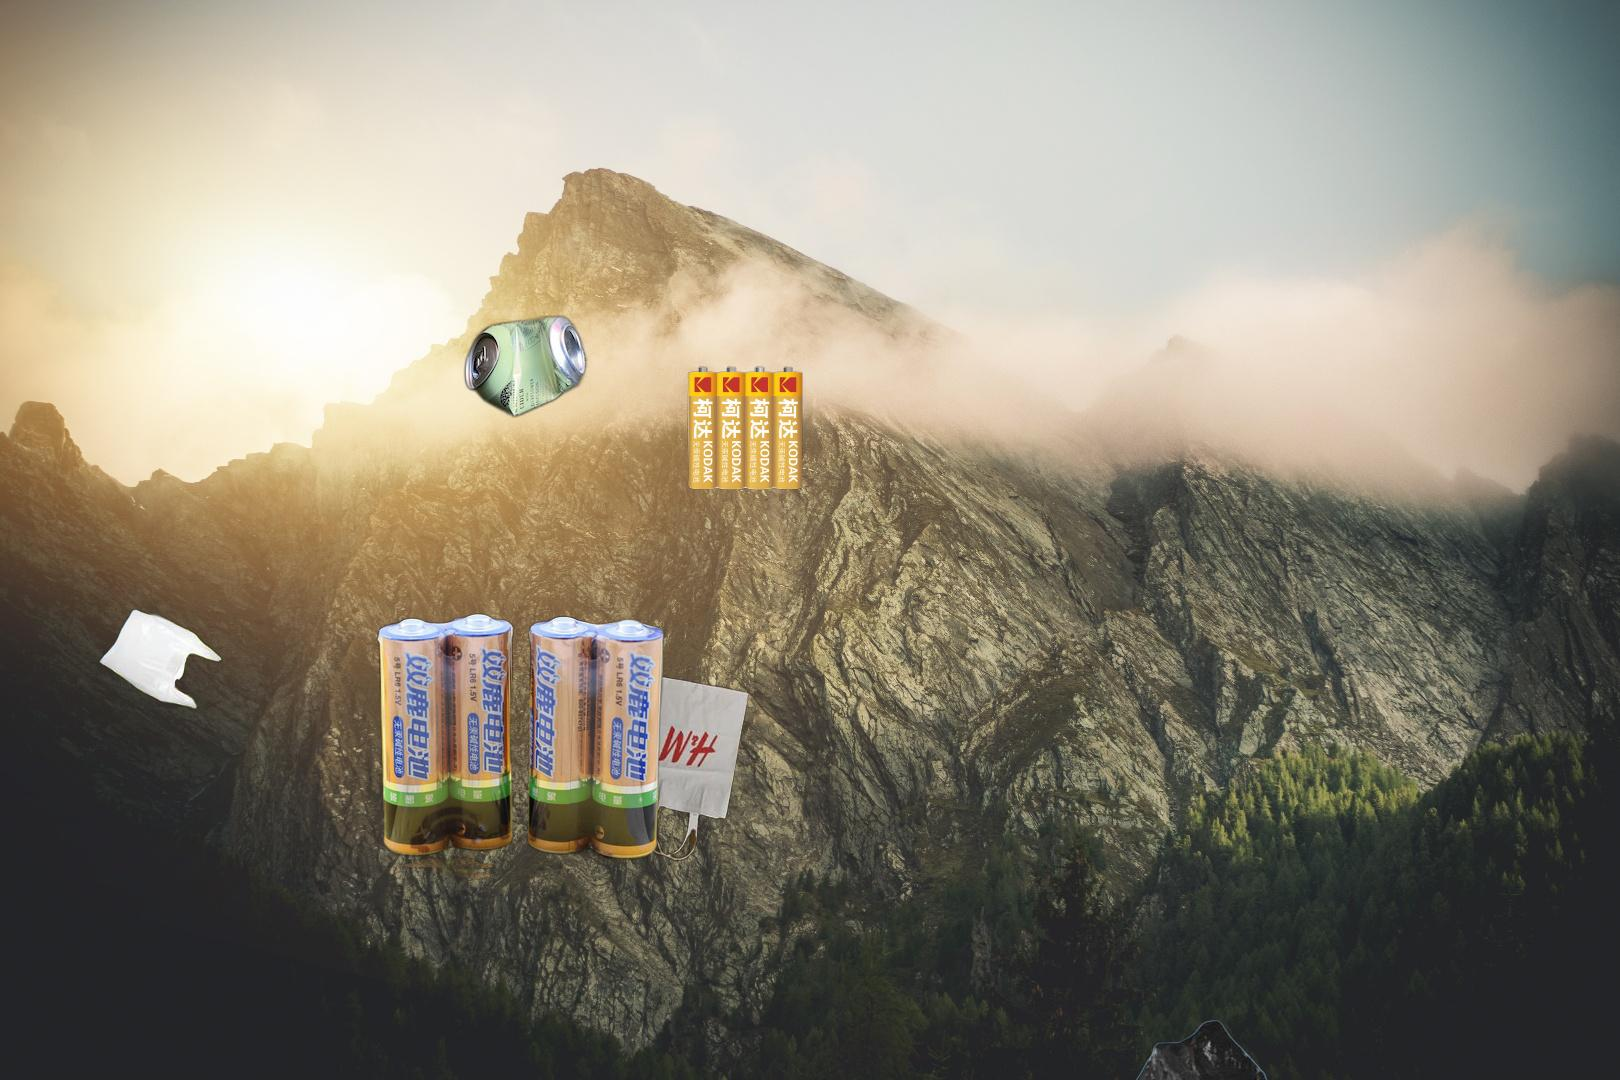battery: (374, 610, 667, 882), (685, 364, 805, 493)
metal-cans: (446, 310, 638, 722), (501, 946, 1012, 1080)
paper-bag: (626, 671, 750, 863)
plastic-bag: (67, 532, 275, 771), (1092, 1017, 1276, 1080)
trashbox-cardboard: (963, 499, 1620, 1032)
